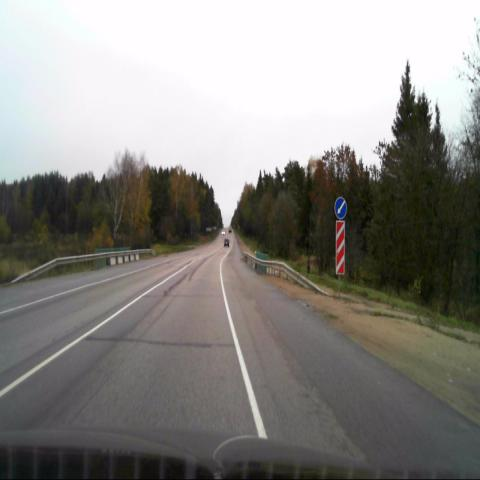4_2_2: (334, 197, 347, 218)
